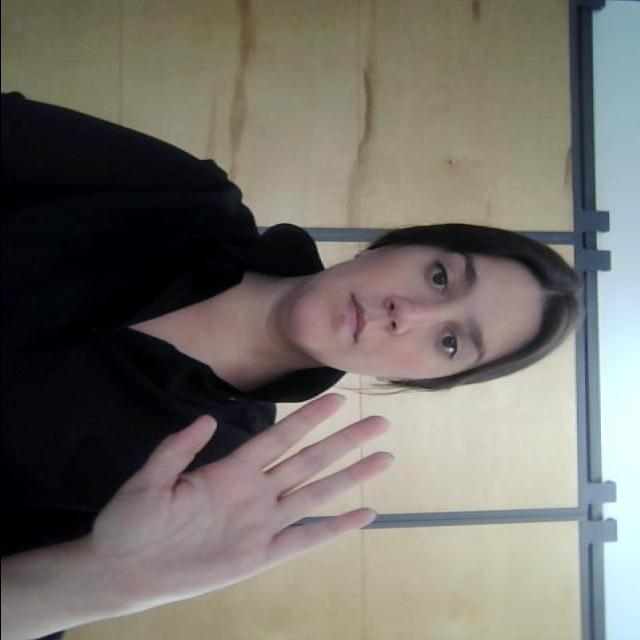Paper: (76, 390, 420, 632)
